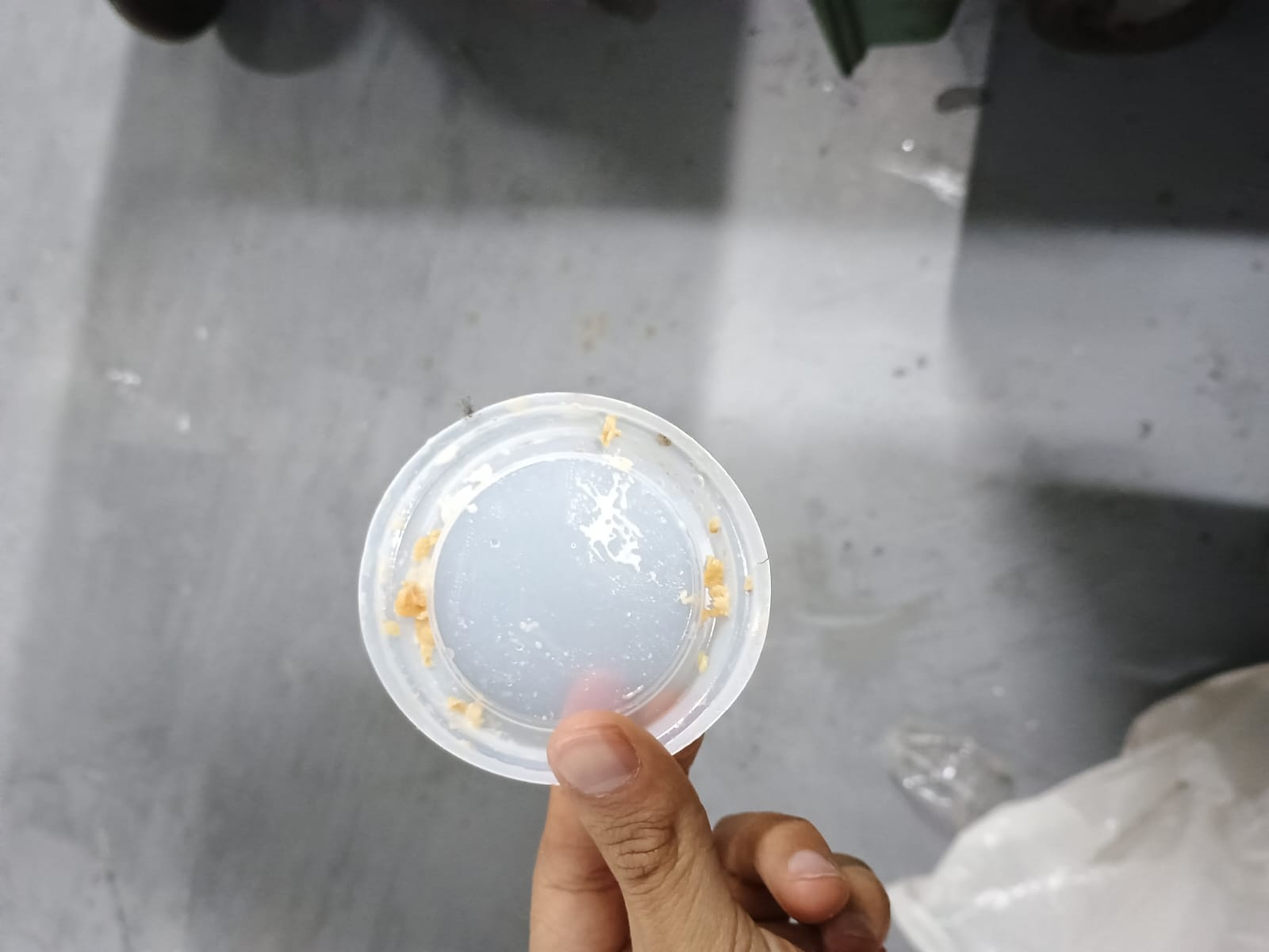Ordinario: (356, 393, 771, 785)
